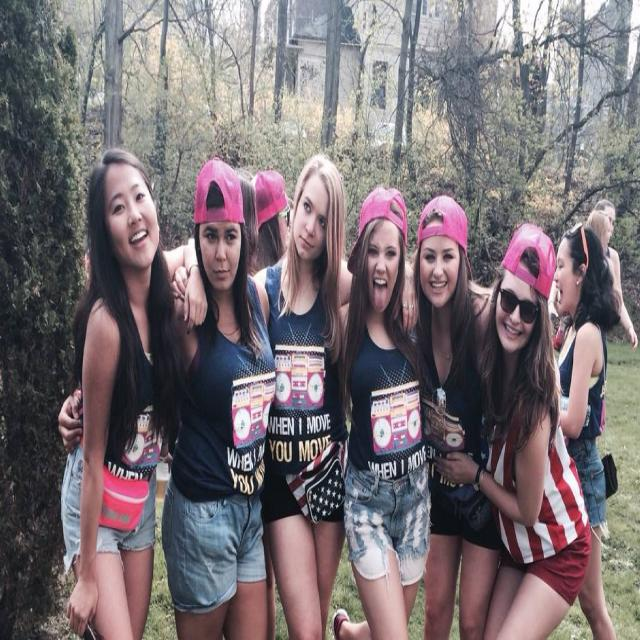body: (171, 149, 423, 640), (57, 155, 279, 639), (408, 222, 594, 639), (59, 148, 210, 639), (172, 163, 274, 639), (399, 194, 502, 640), (332, 183, 432, 640), (553, 225, 623, 639), (546, 198, 640, 354), (252, 169, 292, 279), (582, 208, 618, 298), (505, 55, 541, 121), (55, 22, 79, 100), (607, 98, 621, 132)
